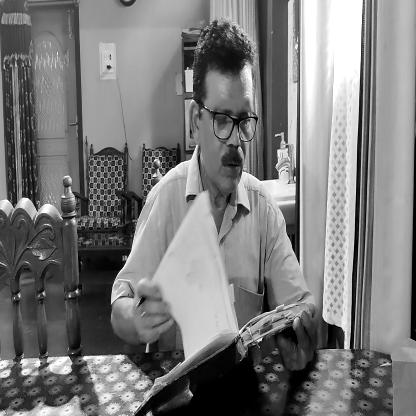Normal: (187, 19, 259, 207)
